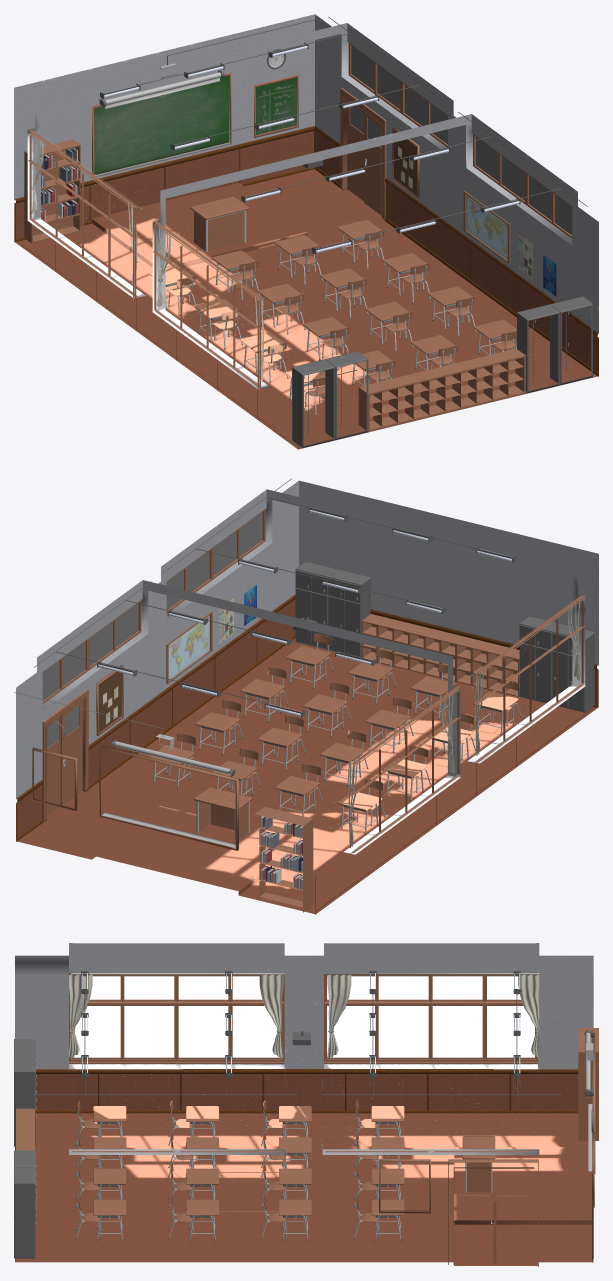
File: scene_classroom.gltf
The picture shows the model from 3 angles, top to bottom: view 1: azimuth 30°, elevation 25°; view 2: azimuth 150°, elevation 25°; view 3: azimuth 270°, elevation 25°; orthographic projection. The views are drawn at different scales.
Visible parts, largest first — view 1: walls, blackboard.001, backShelve, table.001, hallWindows, locker2, windows, door, shelf.001, lights, table2, boards3.001 (+11 smaller); view 2: walls, locker2, table.001, hallWindows, backShelve, windows, door, shelf.001, table2, lights, chair.001, boards3.001 (+10 smaller); view 3: walls, glow, windows, table.001, curtains, locker2, table2, chair.002, wires, chair, shelf.001, lights (+10 smaller).
Part boxes in pixels (x1,y1,x2,y2): walls: [14, 14, 598, 449]; blackboard.001: [94, 75, 228, 174]; backShelve: [358, 348, 525, 431]; table.001: [149, 219, 516, 384]; hallWindows: [348, 43, 572, 238]; locker2: [292, 296, 592, 447]; windows: [28, 129, 262, 390]; door: [340, 87, 386, 220]; shelf.001: [24, 139, 80, 243]; lights: [100, 42, 520, 254]; table2: [165, 232, 514, 400]; boards3.001: [466, 194, 556, 296]; walls: [16, 480, 598, 914]; locker2: [295, 561, 594, 712]; table.001: [149, 645, 518, 810]; hallWindows: [42, 509, 265, 703]; backShelve: [361, 614, 519, 696]; windows: [351, 595, 585, 852]; door: [42, 689, 88, 821]; shelf.001: [254, 807, 313, 912]; table2: [153, 659, 514, 834]; lights: [97, 506, 516, 717]; chair.001: [177, 633, 519, 790]; boards3.001: [168, 585, 256, 680]; walls: [15, 943, 593, 1265]; glow: [74, 976, 534, 1057]; windows: [69, 972, 538, 1063]; table.001: [93, 1106, 404, 1215]; curtains: [69, 973, 539, 1058]; locker2: [14, 1039, 36, 1258]; table2: [96, 1122, 401, 1240]; chair.002: [83, 1119, 377, 1222]; wires: [33, 989, 594, 1111]; chair: [75, 1110, 379, 1239]; shelf.001: [578, 1028, 598, 1140]; lights: [81, 971, 520, 1077].
Size of the model in its own units: 10.47 by 6.36 by 15.84.
5 materials, 5 textured.
